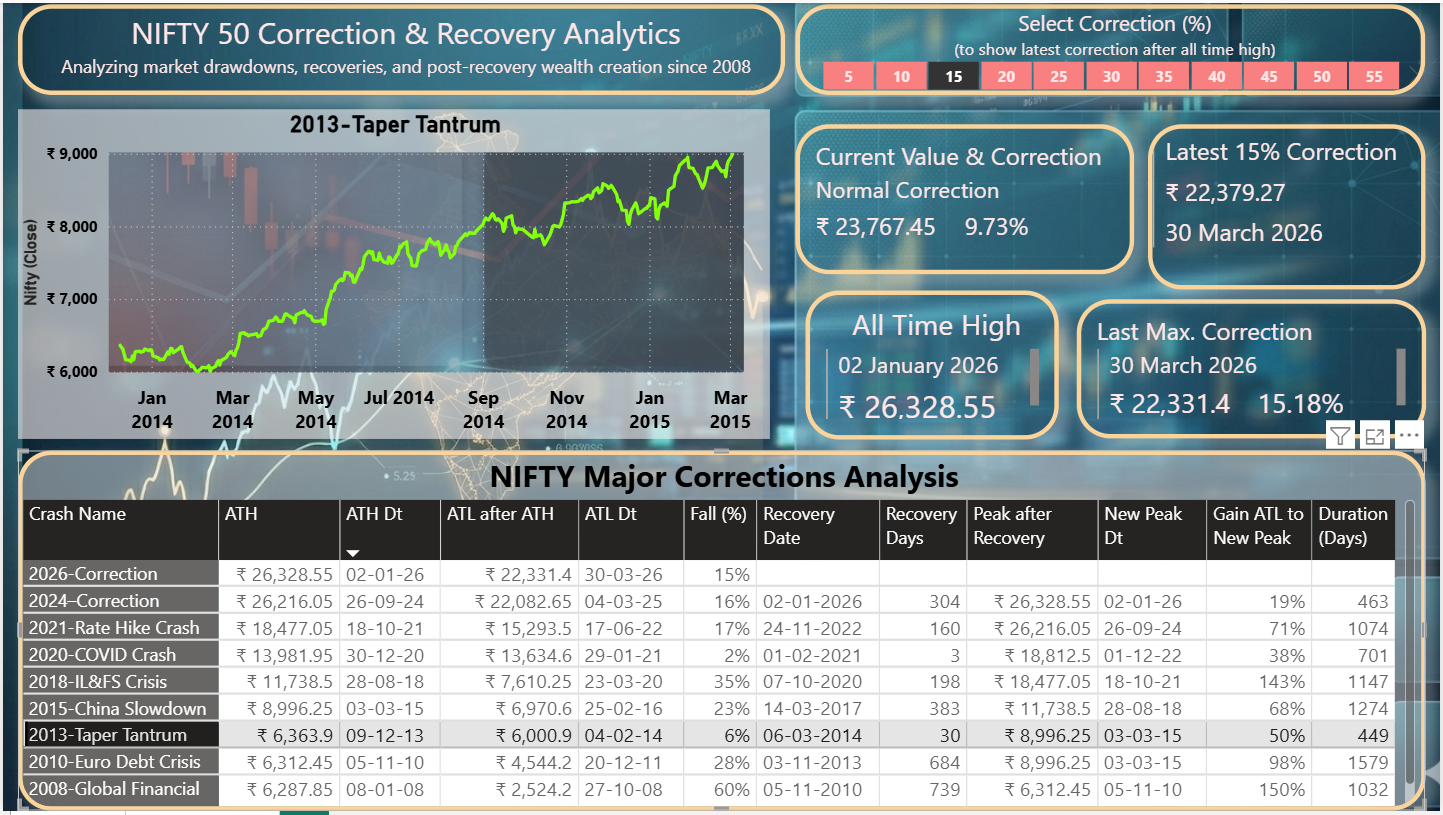

The page's visual inventory and layout, read from the dashboard file:
{"tool":"powerbi","page":{"name":"NIFTY_50 ","canvas":[1280,720],"ordinal":0},"visuals":[{"type":"multiRowCard","title":"All Time High","fields":{"Values":["Nifty.All Time High","Nifty.All Time High Dt"]},"box":[715.2,255.5,225.8,132.5],"z":0},{"type":"multiRowCard","title":"Last Max. Correction","fields":{"Values":["Nifty.Correction","Nifty.Correction Dt","Nifty.correction (%)"]},"box":[955.8,263.6,310.9,124.4],"z":1000},{"type":"multiRowCard","title":"Current Value & Correction","fields":{"Values":["Nifty.Current Value","Nifty.Current Correction","Nifty.Play Book"]},"box":[705.7,108.2,301.5,133.8],"z":2000},{"type":"slicer","title":"Select Correction (%)","fields":{"Values":["Fall From ATH.Fall Percentage"]},"box":[705.8,1.2,561,80.8],"z":3000},{"type":"multiRowCard","fields":{"Values":["Fall From ATH.Header","Nifty.Fall Value","Nifty.Date of Fall"]},"box":[1019.4,108.2,247.4,147.4],"z":4000},{"type":"pivotTable","title":"NIFTY Major Corrections Analysis","fields":{"Rows":["Crash History.Crash Name"],"Values":["Nifty.ATH","Nifty.ATH Dt","Nifty.ATL after ATH","Nifty.ATL Dt","Nifty.Max fall","Nifty.Recovery Date","Nifty.Recovery Days","Nifty.Peak after Recovery","Nifty.New Peak Dt","Nifty.Gain ATL to New Peak","Nifty.Duration"]},"box":[13.5,398.8,1253.2,320.4],"z":5000},{"type":"card","title":"NIFTY 50 Correction & Recovery Analytics","fields":{"Values":["Crash History.Title"]},"box":[13.4,1.3,683.2,80.7],"z":6000},{"type":"lineChart","title":"Nifty (Close) by Date","fields":{"Y":["Sum(Nifty.Close)"],"Category":["Nifty.Date"]},"box":[13.5,94.6,669.2,293.4],"z":7000}]}

Visuals, with their boxes in screenshot pixels (x1, y1, x2, y2), scaled from the page's 1280x720 canvas onto the 1443x815 screenshot:
"All Time High" multiRowCard: (806,289,1061,439)
"Last Max. Correction" multiRowCard: (1078,298,1428,439)
"Current Value & Correction" multiRowCard: (796,122,1135,274)
"Select Correction (%)" slicer: (796,1,1428,93)
multiRowCard - Fall From ATH.Header x Nifty.Fall Value: (1149,122,1428,289)
"NIFTY Major Corrections Analysis" pivotTable: (15,451,1428,814)
"NIFTY 50 Correction & Recovery Analytics" card: (15,1,785,93)
"Nifty (Close) by Date" lineChart: (15,107,770,439)
